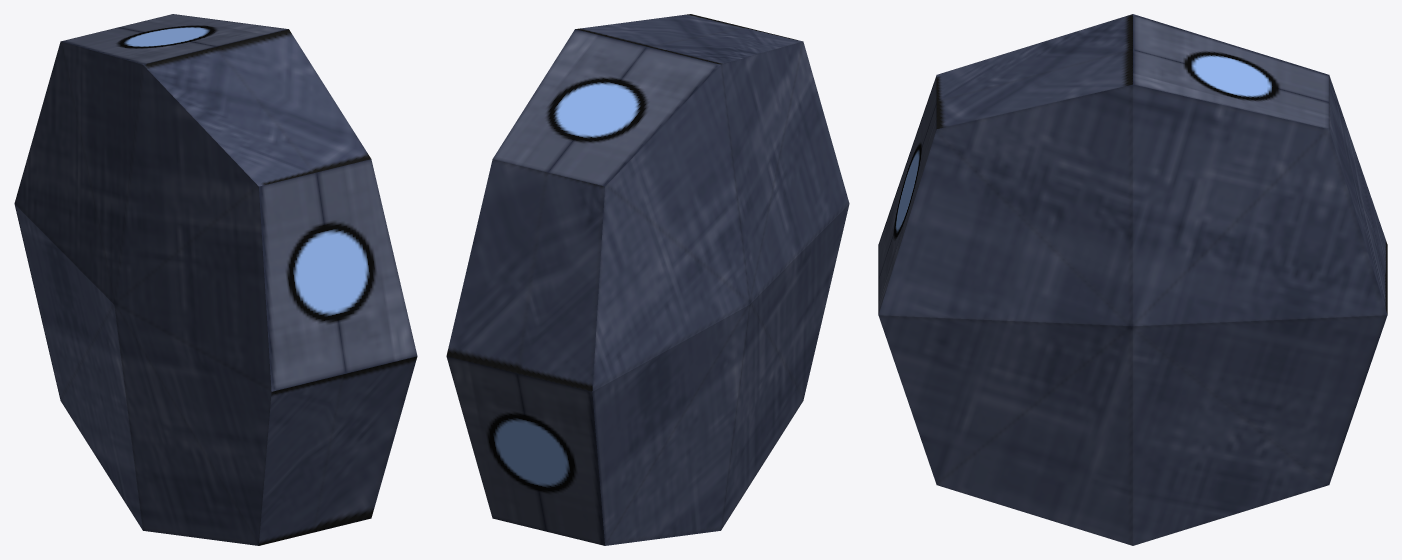
The model's file is bossModel2Rot.fbx.
3 views of the same model, side by side, from view 1: azimuth 30°, elevation 25°; view 2: azimuth 150°, elevation 25°; view 3: azimuth 270°, elevation 25° (orthographic).
Parts seen in each view (by area): view 1: Cube; view 2: Cube; view 3: Cube.
Part boxes in pixels (bbox=[...]): Cube: bbox=[14, 14, 417, 545]; Cube: bbox=[446, 14, 849, 545]; Cube: bbox=[878, 14, 1387, 545].
Size of the model in its own units: 115 by 259 by 259.
Materials: 1 (1 with a texture image).
